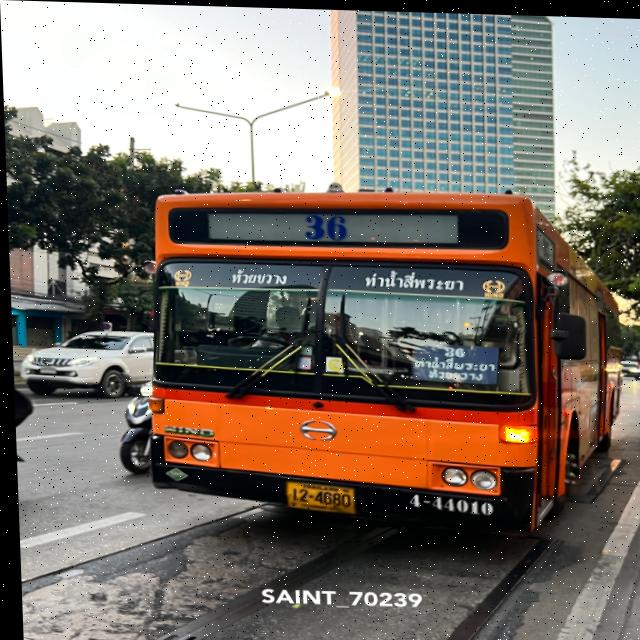BMTA-bus: (117, 189, 620, 529)
Bus Line Number: (300, 212, 352, 242)
Bus Side Number: (399, 483, 497, 515)
Destination Sign: (406, 340, 497, 383)
